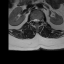CCS_normal: (35, 17, 37, 25)
LFS_stenosis: (39, 17, 41, 23)
LLS_stenosis: (37, 17, 39, 23)
RFS_normal: (31, 17, 33, 23)
RLS_normal: (33, 17, 35, 23)
